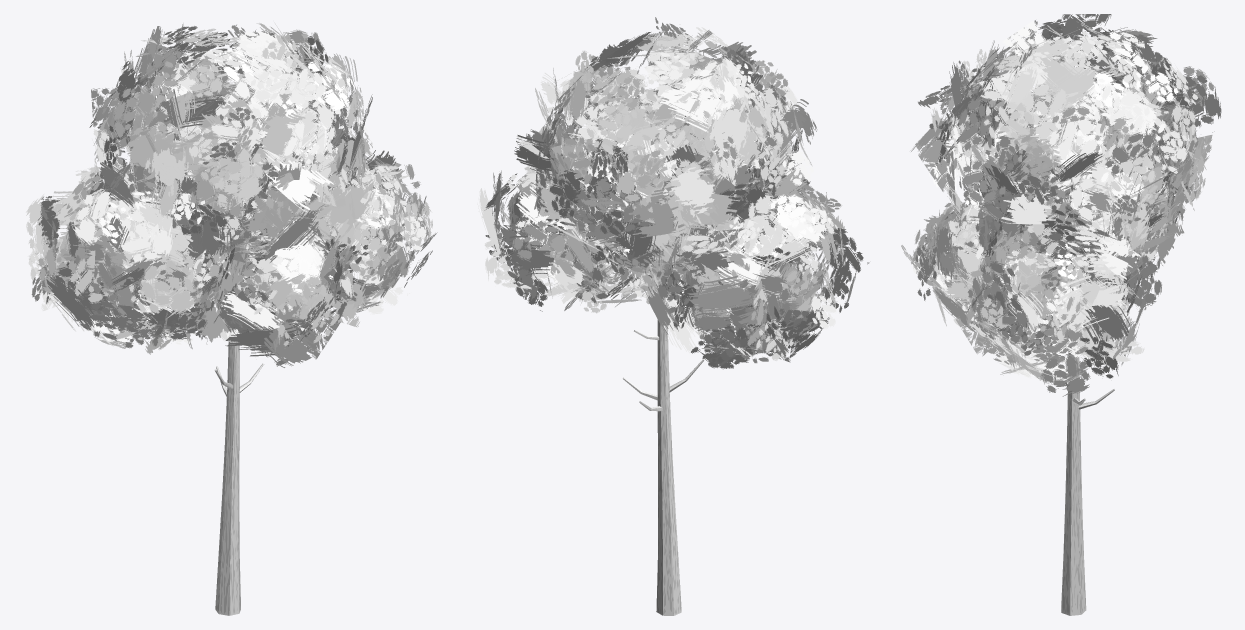
Rendered from stylized_tree_seed31.fbx.
3 views of the same model, side by side, from view 1: azimuth 30°, elevation 25°; view 2: azimuth 150°, elevation 25°; view 3: azimuth 270°, elevation 25° (orthographic). The views are drawn at different scales.
Visible parts, largest first — view 1: StylizedTree_Leaves.003, StylizedTree_Trunk.003; view 2: StylizedTree_Leaves.003, StylizedTree_Trunk.003; view 3: StylizedTree_Leaves.003, StylizedTree_Trunk.003.
Part boxes in pixels (left/top/right/bottom): StylizedTree_Leaves.003: left=26, top=22, right=437, bottom=367; StylizedTree_Trunk.003: left=145, top=253, right=263, bottom=615; StylizedTree_Leaves.003: left=477, top=17, right=869, bottom=369; StylizedTree_Trunk.003: left=618, top=125, right=704, bottom=615; StylizedTree_Leaves.003: left=901, top=14, right=1221, bottom=396; StylizedTree_Trunk.003: left=1055, top=141, right=1114, bottom=615.
Size of the model in its own units: 5.29 by 7.81 by 4.
Materials: 2 (2 with a texture image).
